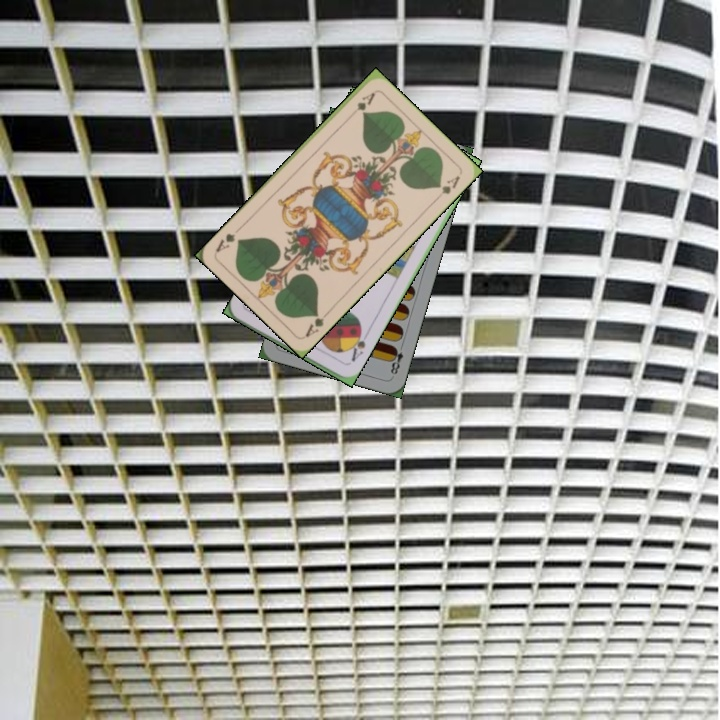E8: (386, 339, 406, 377)
GA: (301, 307, 333, 340), (345, 88, 378, 119)
SA: (344, 327, 370, 364)
